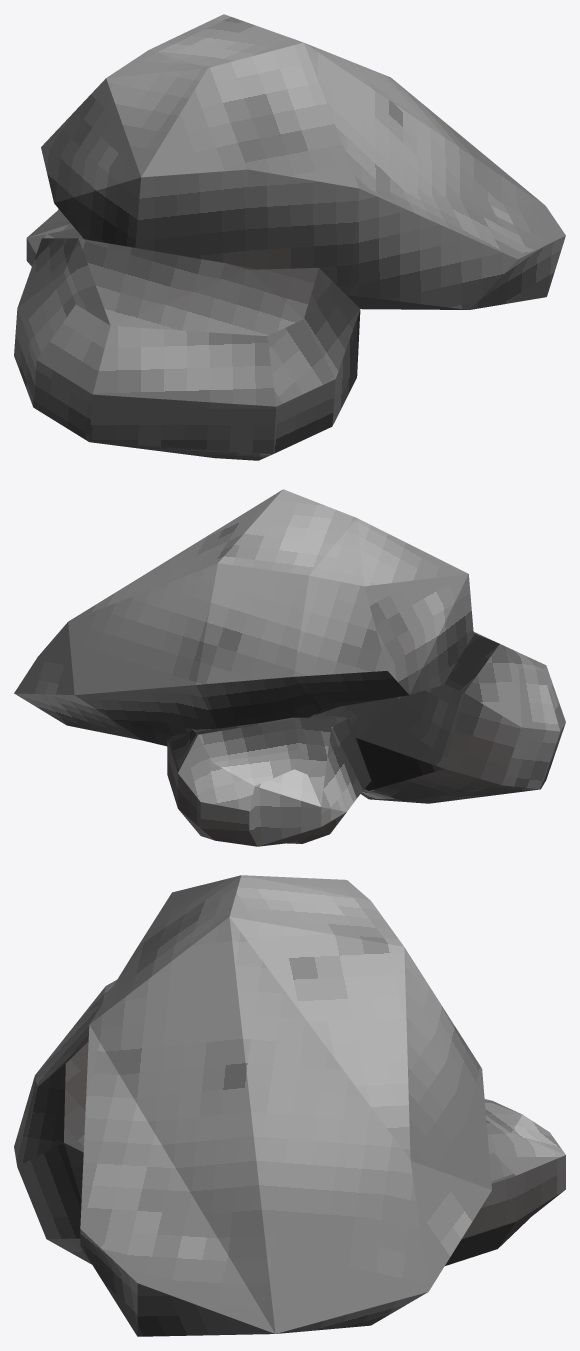
Rendered from Rock_3.fbx.
The picture shows the model from 3 angles, top to bottom: view 1: azimuth 30°, elevation 25°; view 2: azimuth 150°, elevation 25°; view 3: azimuth 270°, elevation 25°; orthographic projection. The views are drawn at different scales.
Visible parts, largest first — view 1: sphere, sphere_1, cylinder; view 2: sphere, sphere_1, cylinder; view 3: sphere, sphere_1, cylinder.
Part boxes in pixels (x1,y1,x2,y2): sphere: (41, 14, 565, 309); sphere_1: (14, 238, 360, 460); cylinder: (26, 209, 83, 266); sphere: (14, 489, 473, 746); sphere_1: (317, 632, 565, 803); cylinder: (167, 714, 371, 846); sphere: (80, 875, 491, 1336); sphere_1: (14, 980, 116, 1264); cylinder: (445, 1099, 565, 1265).
Size of the model in its own units: 174 by 106 by 133.
Materials: 3 (3 with a texture image).
